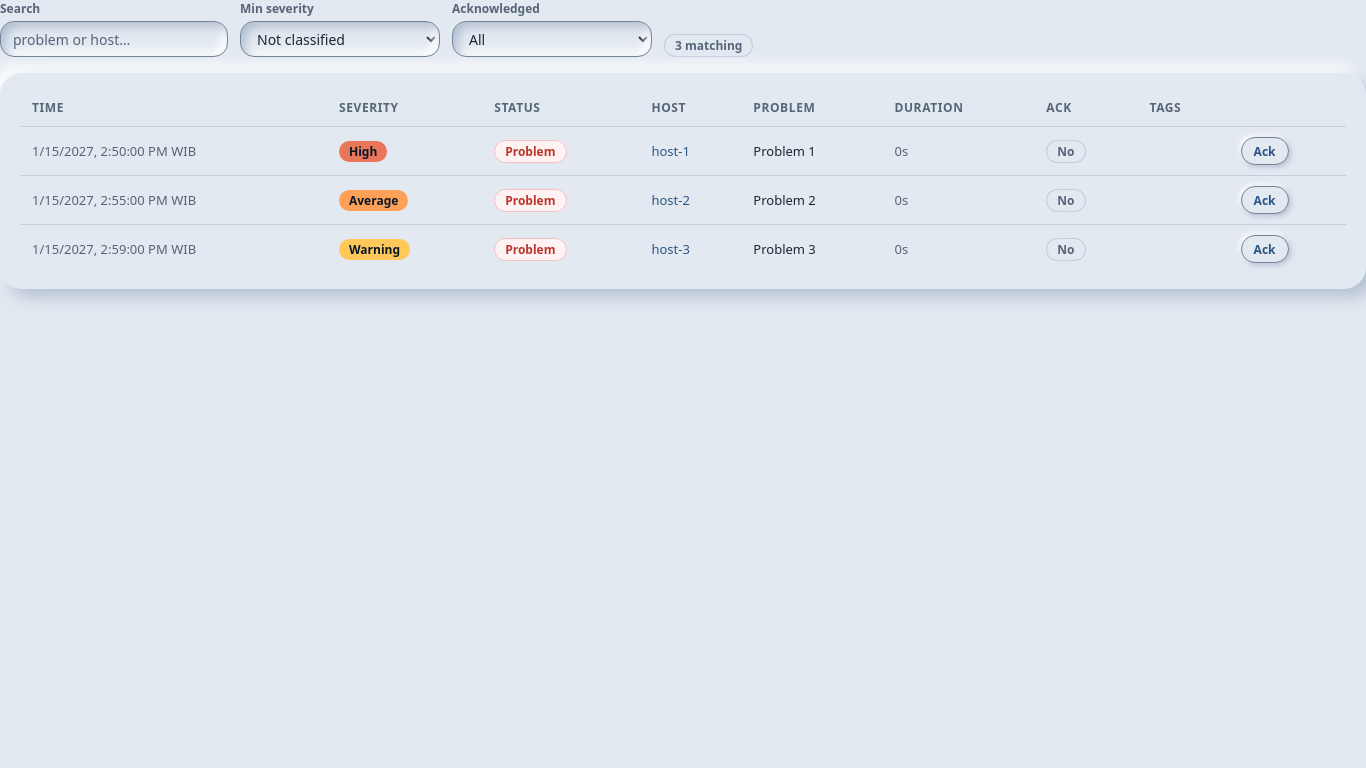
Test case: acknowledge and close are not instant (UX-13) › reads the list again straight after a send, not at the next poll
Check: the row that starts with "1/15/2027, 2:50:00 PM WIB" is shown, box [20, 126, 1346, 176]
Click the button "Ack" in the row of "1/15/2027, 2:50:00 PM WIB".
click(1265, 151)  # box [1241, 137, 1288, 165]
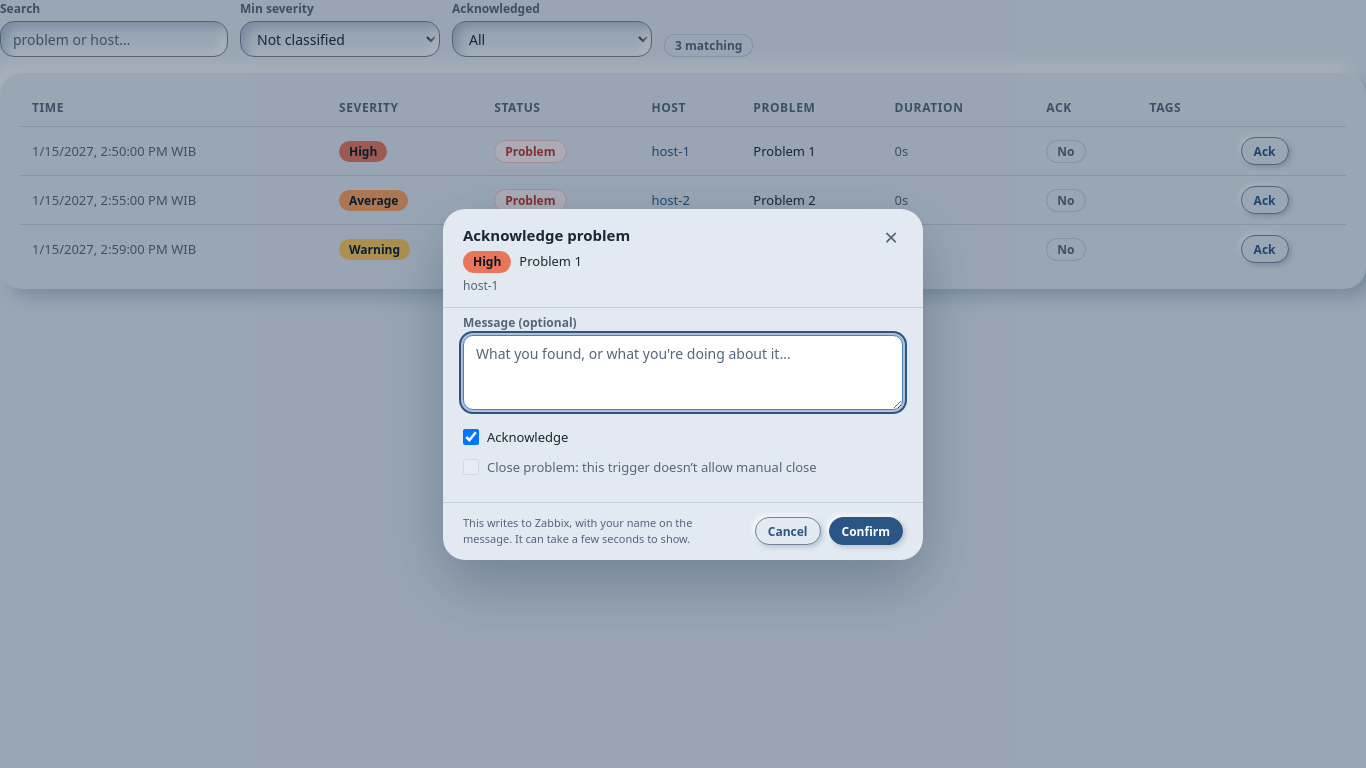
Click the button "Confirm".
click(866, 531)  # box [828, 517, 903, 545]
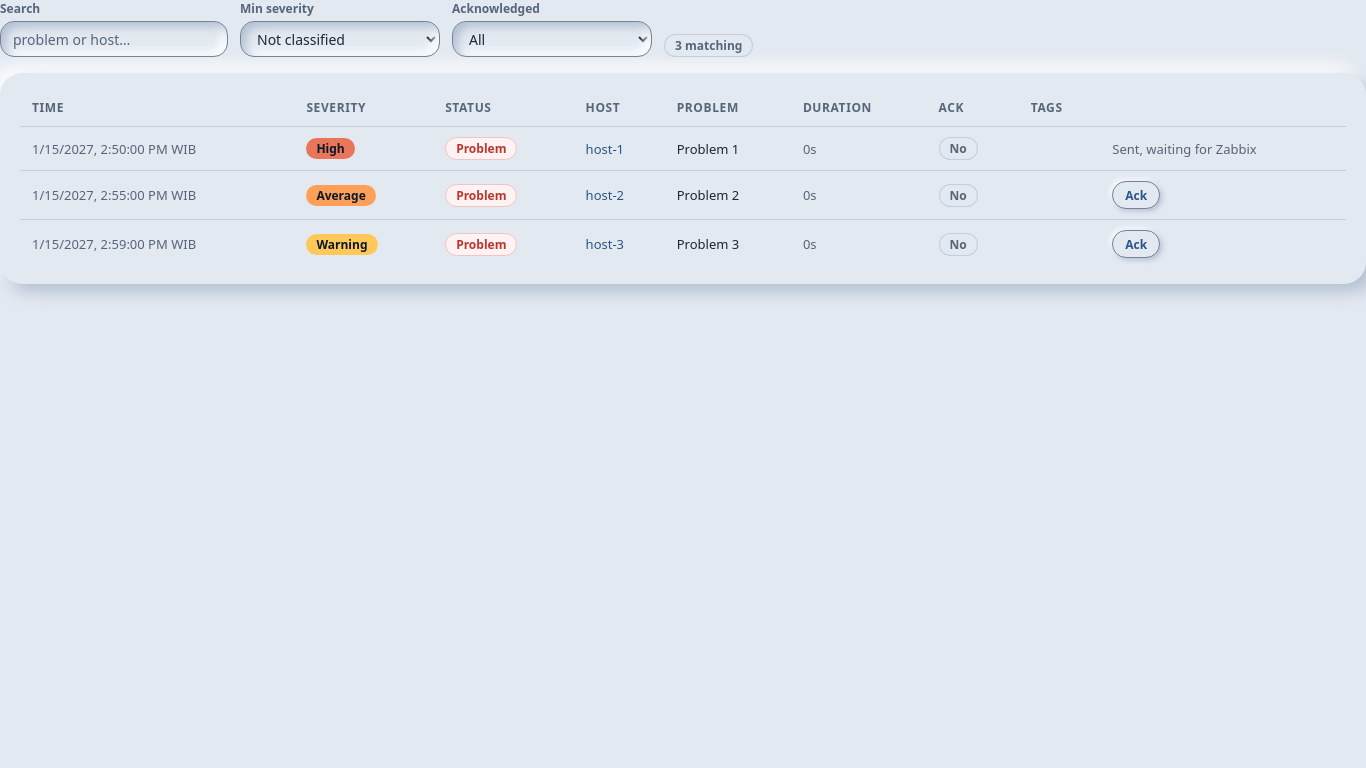
Check: the text "Sent, waiting for Zabbix" is shown, box [1112, 140, 1257, 158]
